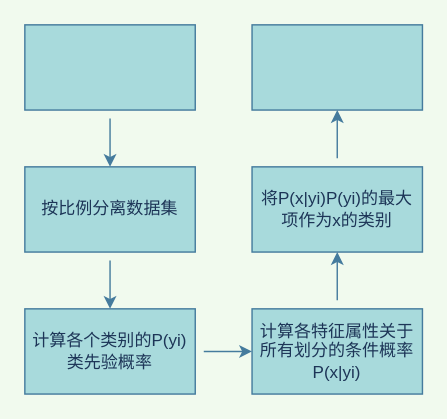
The diagram is 447 pixels wide and 419 high, and some of its shapes have lost their labels. Each missing label, with the box of its shape:
与真实的x类别对比: (251, 23, 422, 110)
确定特征属性: (23, 23, 195, 110)
